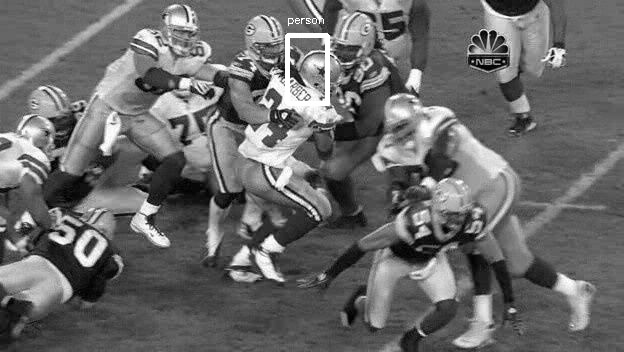person: (303, 52, 338, 97), (302, 52, 337, 97), (304, 52, 339, 97), (303, 51, 338, 96), (303, 53, 338, 98)
target_negative: (569, 115, 620, 297), (134, 301, 324, 344), (284, 315, 562, 338), (453, 229, 551, 287), (487, 177, 552, 243), (487, 335, 588, 346)
